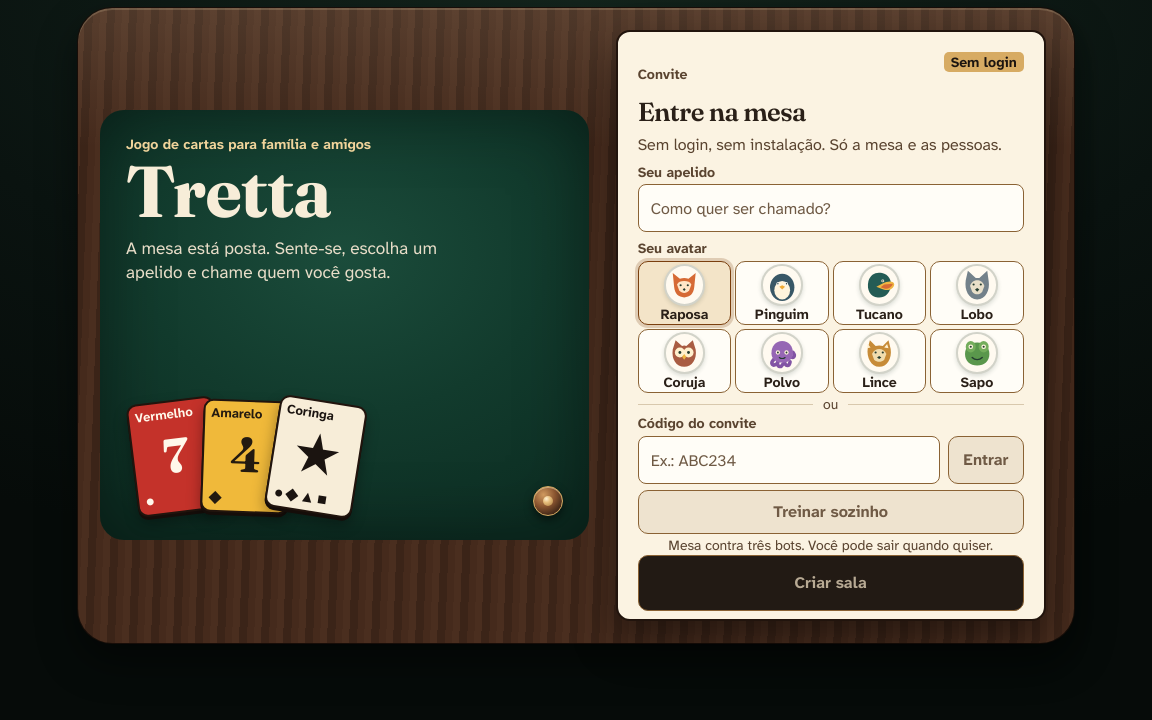
Test: home no visual da mesa › mostra a falha em alerta e permite fechar sem navegar
This screenshot has width=1152, height=720.
Type "Ana" into the field with test id "nickname-input" at (831, 208), box [638,184,1024,232]
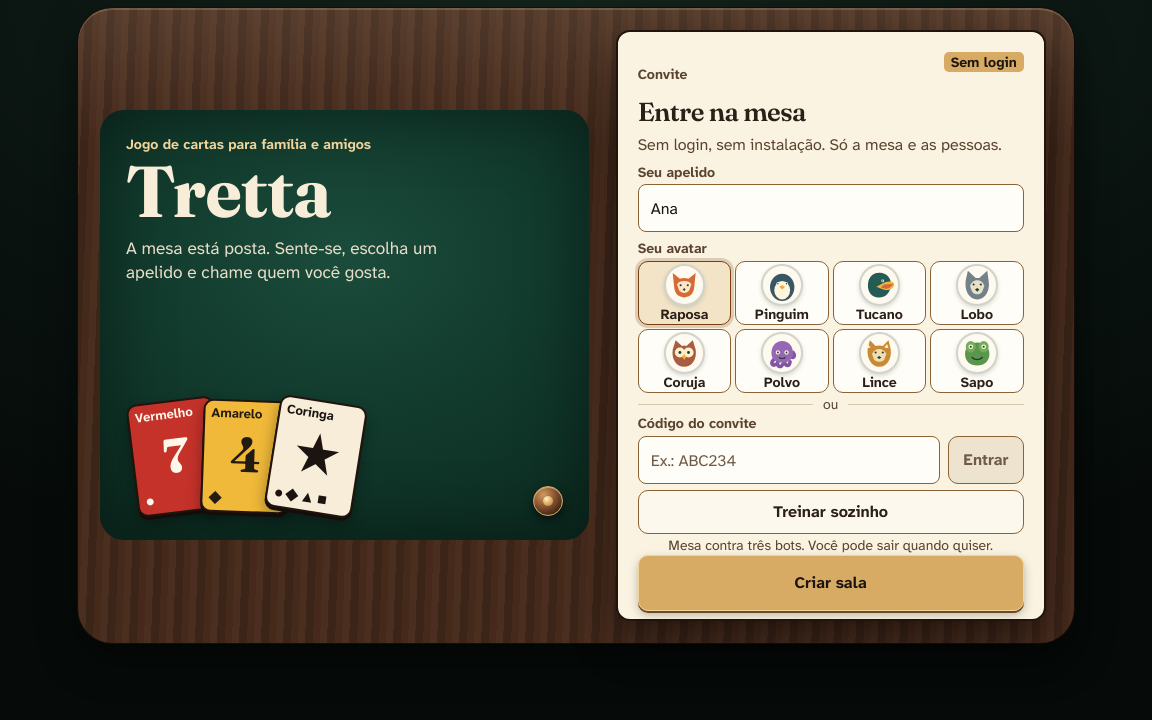
Click the button with test id "create-room-button" at (831, 583), box [638,555,1024,611]
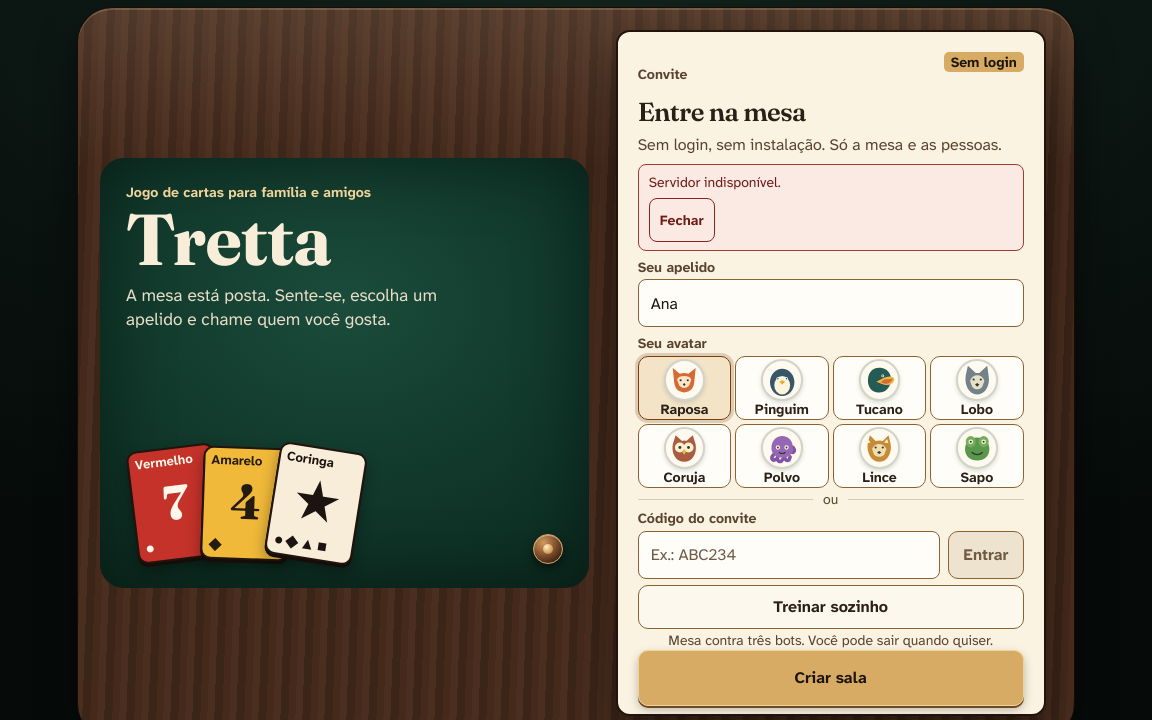
Now the message with test id "error-banner" shows "Servidor indisponível", box [649,173,781,191]
Click the button with test id "error-dismiss" at (682, 220), box [649,198,715,242]
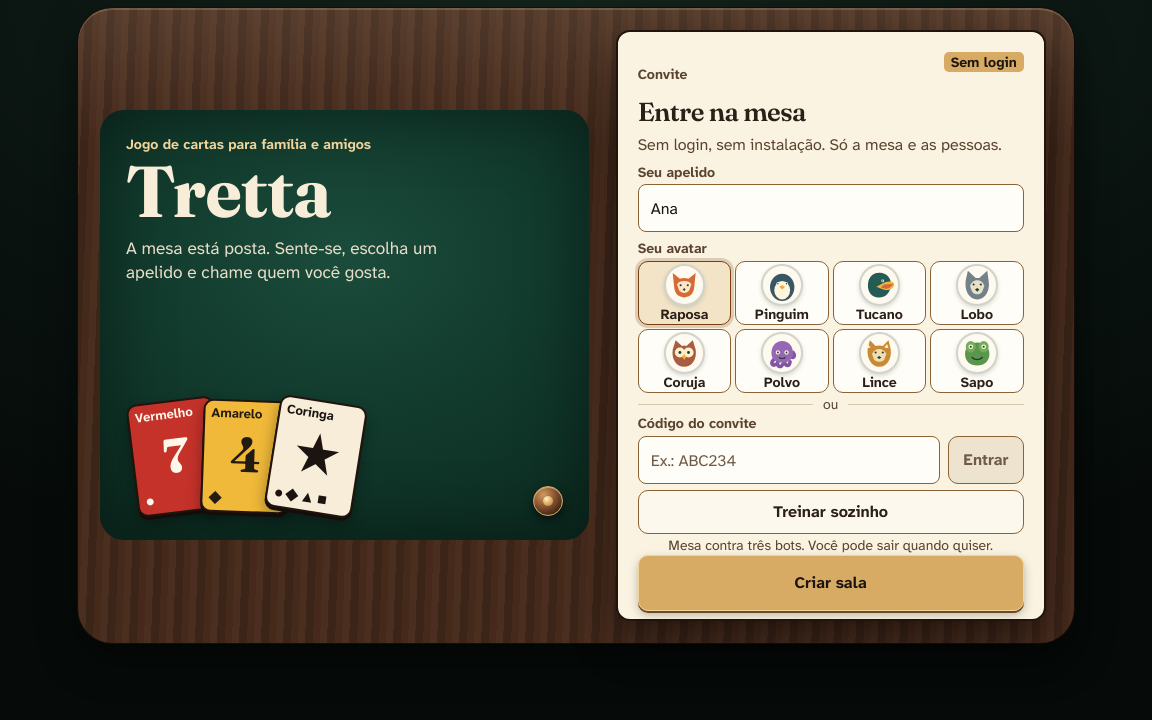
Now the message with test id "error-banner" is gone
